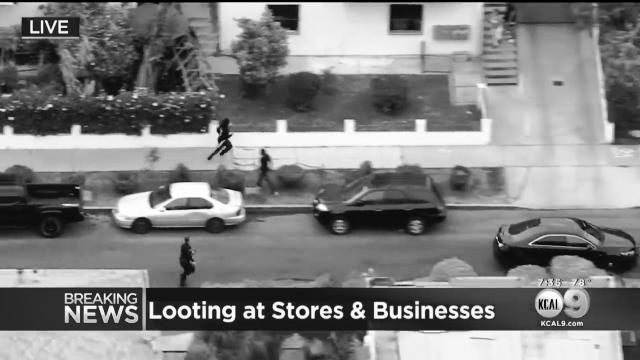berlari: (204, 115, 238, 163)
